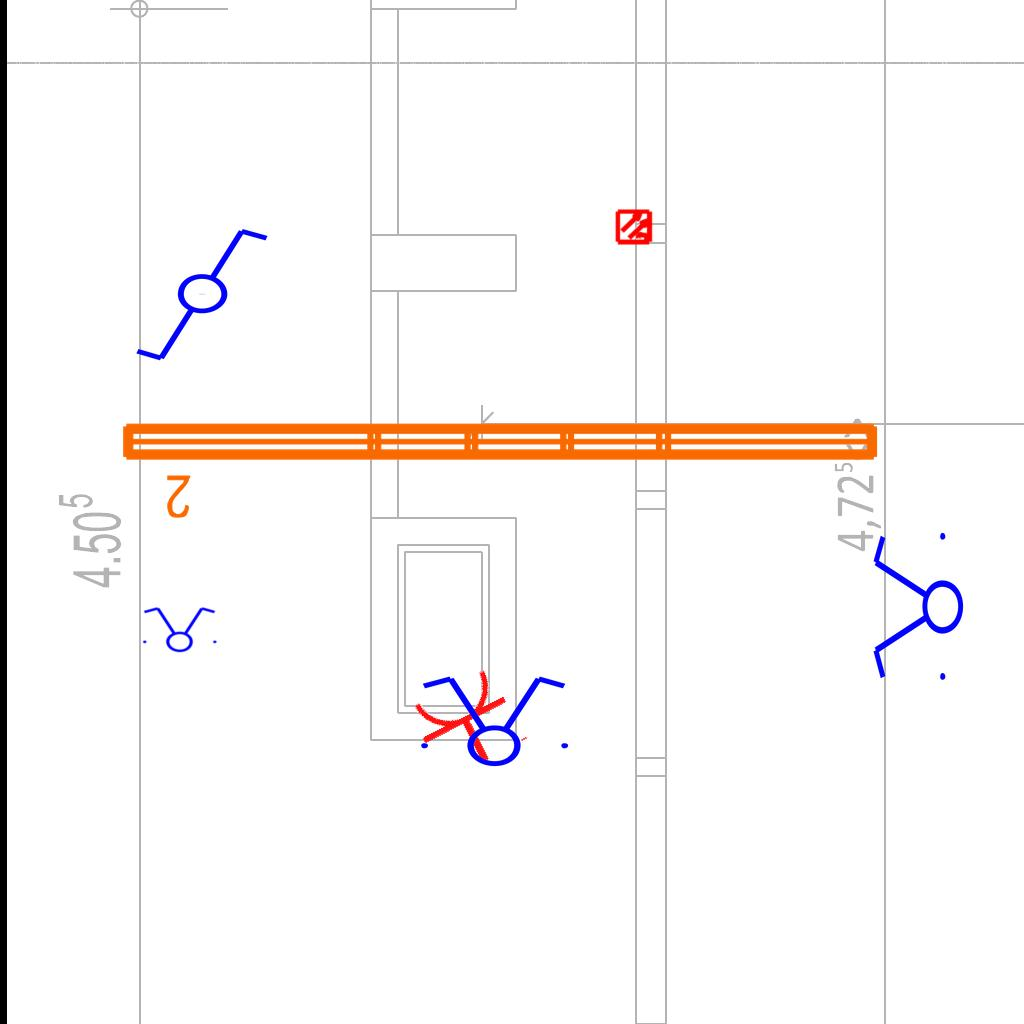Ambulanz_Pendelleuchte_LED: (114, 411, 888, 523)
OT_Multisensormelder_(Kombination_RMO_WMD): (607, 199, 663, 255)
Schukosteckdose_einfach: (404, 661, 533, 785)
Serienschalter: (869, 524, 965, 692), (409, 672, 577, 768), (137, 605, 221, 653)
Wechselschalter: (132, 224, 289, 368)
